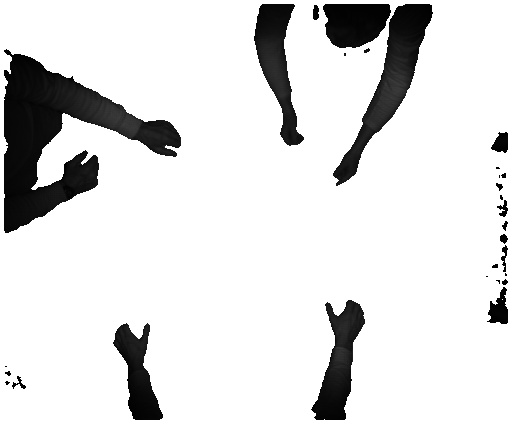fist: (63, 149, 103, 197)
hand: (324, 296, 367, 343), (112, 320, 151, 368), (142, 120, 183, 159), (328, 155, 365, 191), (280, 119, 303, 151)
